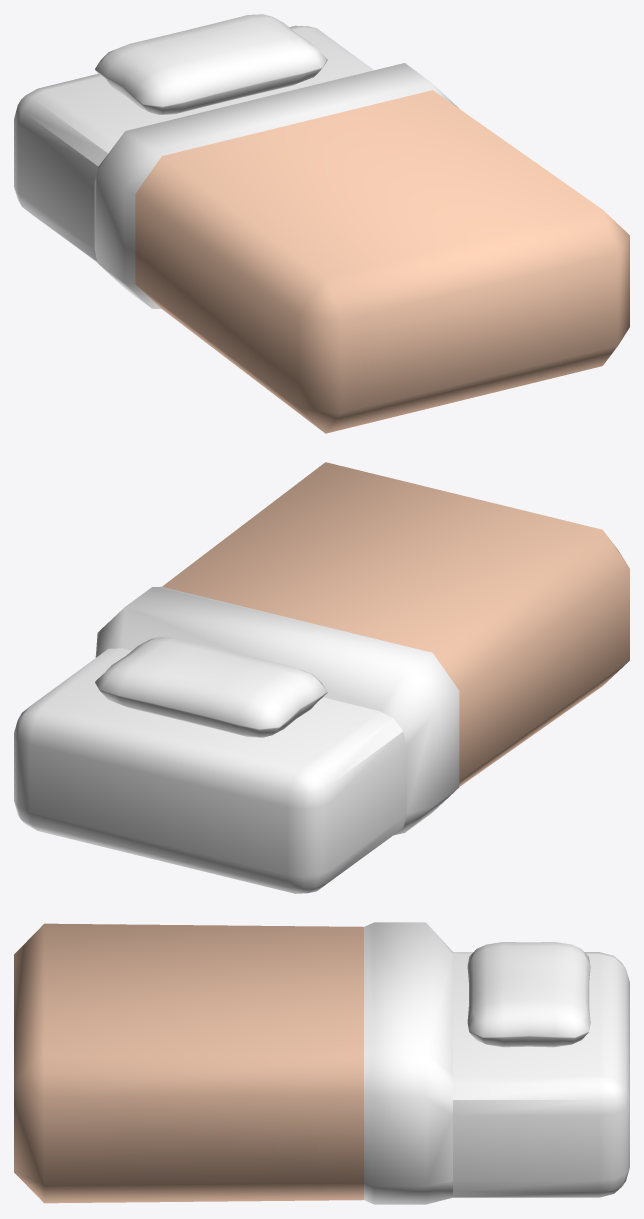
Rendered from test_bed1.fbx.
3 views of the same model, one above another, from view 1: azimuth 30°, elevation 25°; view 2: azimuth 150°, elevation 25°; view 3: azimuth 270°, elevation 25° (orthographic). The views are drawn at different scales.
Visible parts, largest first — view 1: Cube.028, Cube.030; view 2: Cube.028, Cube.030; view 3: Cube.028, Cube.030.
Part boxes in pixels (x1,y1,x2,y2): Cube.028: (14, 25, 629, 433); Cube.030: (95, 14, 327, 114); Cube.028: (14, 462, 629, 893); Cube.030: (95, 637, 327, 737); Cube.028: (14, 922, 629, 1204); Cube.030: (467, 942, 590, 1047).
Bounding box in the file's own units: 307 × 153 × 510.
